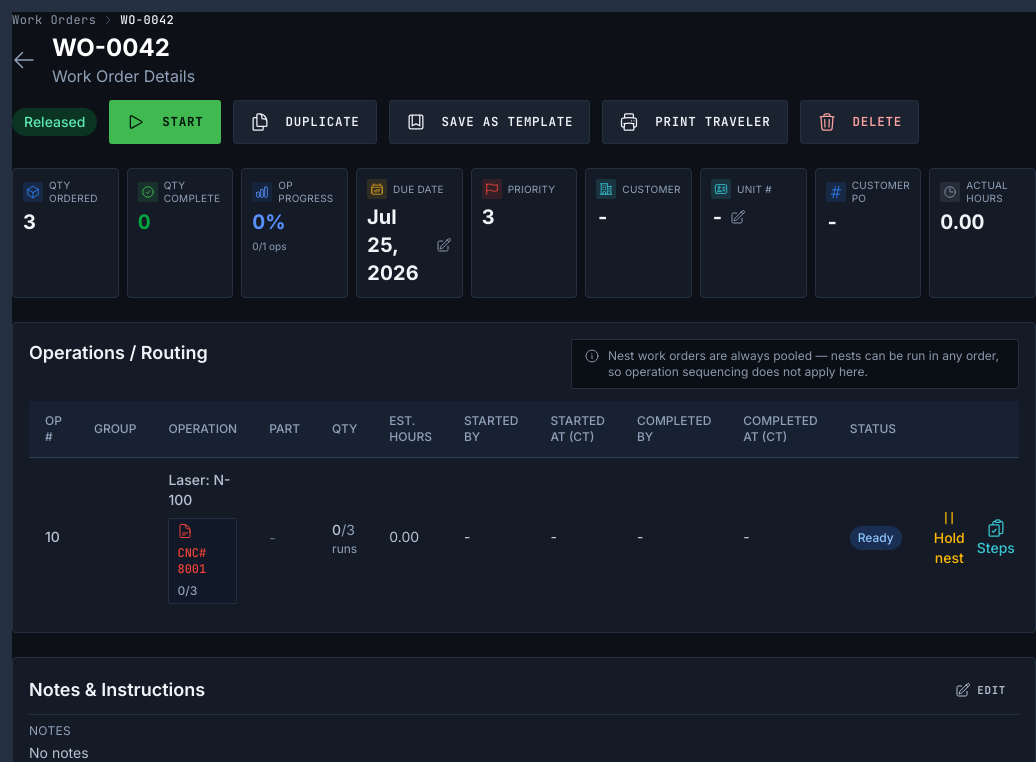
Test: inline due-date edit › saves through updateWorkOrder with the version, toasts, and refetches
Click the button named "Edit due date" at (444, 245), box [436,237,452,253]
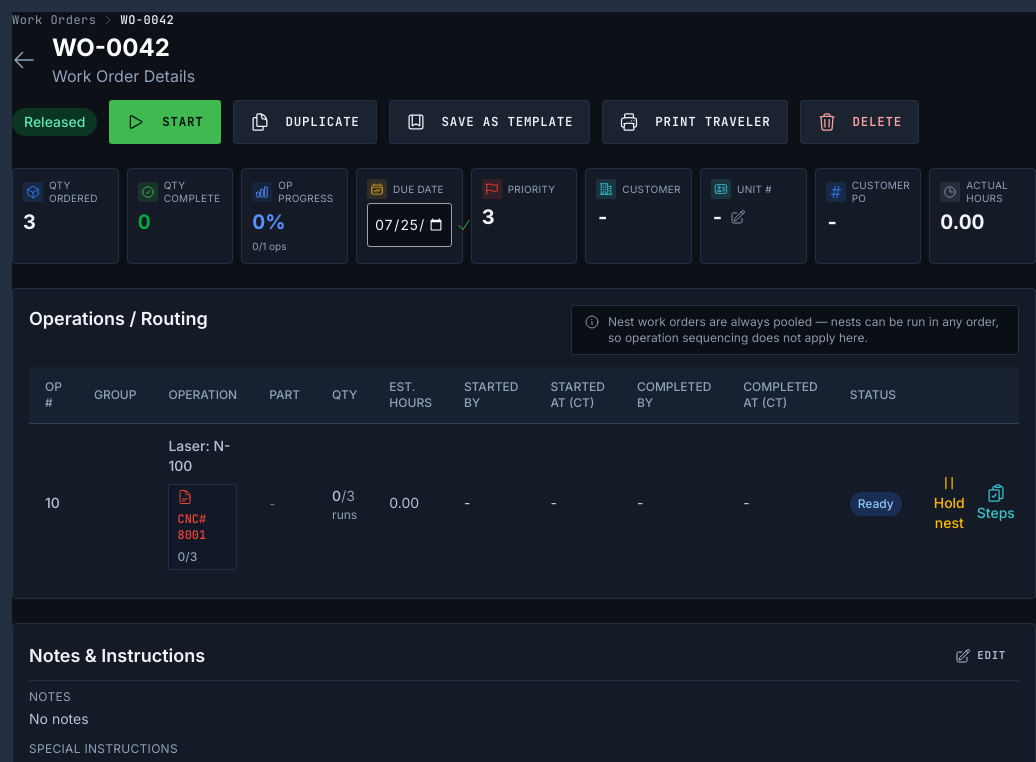
expect the date field named "Due date" holds "2026-07-25": met
Type "2026-08-01" into the date field named "Due date" at (409, 225), box [367,203,452,247]
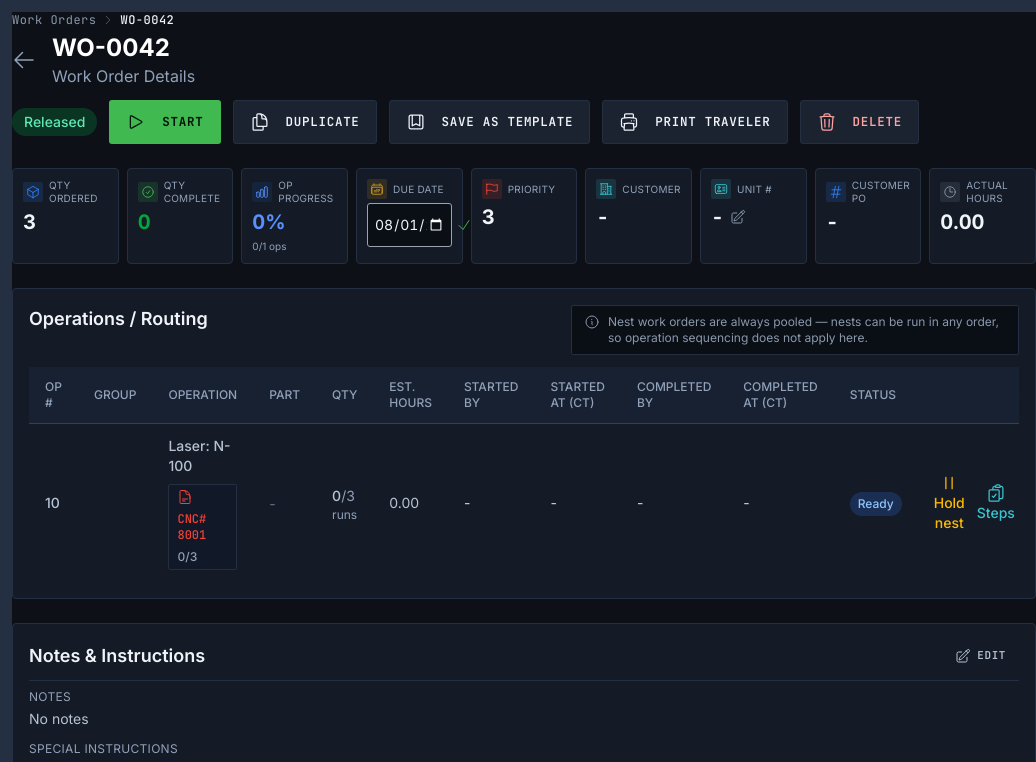
Click the button named "Save due date" at (464, 225), box [456,217,472,233]
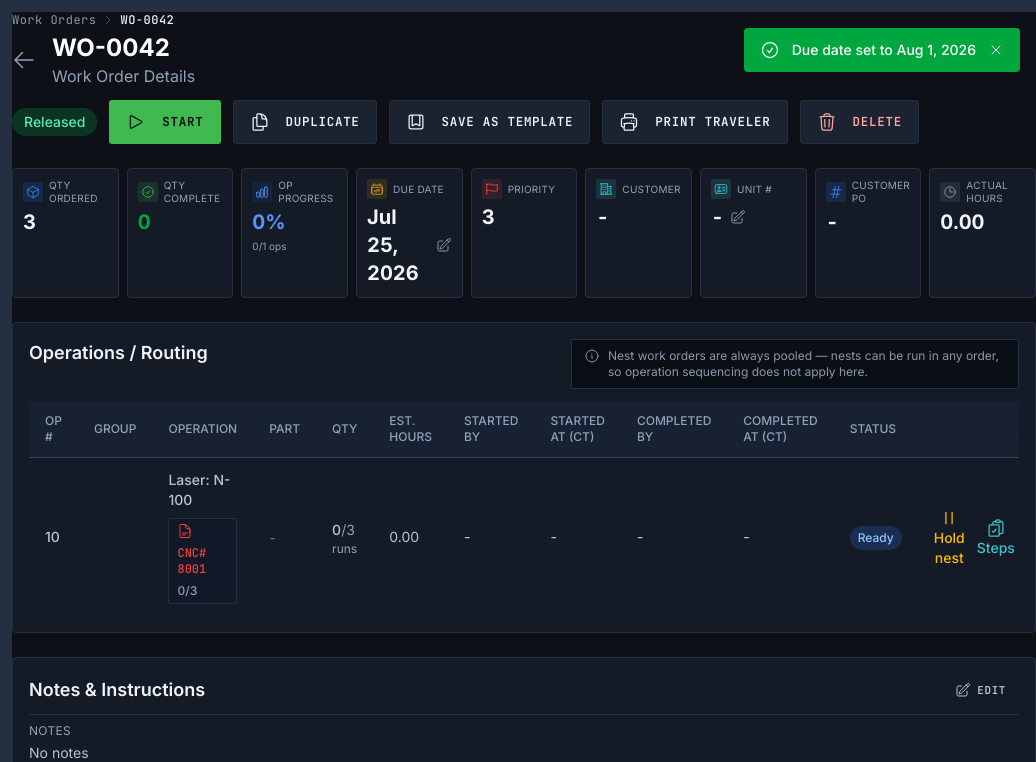
expect the text "Due date set to Aug 1, 2026" is shown: met, box [792,40,976,60]
